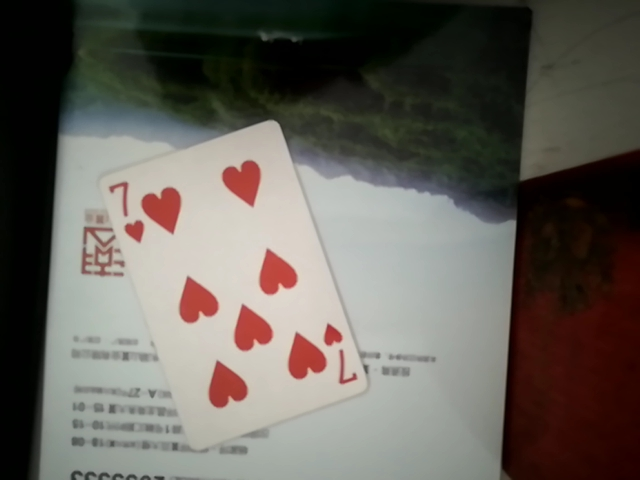hx 7: (89, 118, 369, 452)
